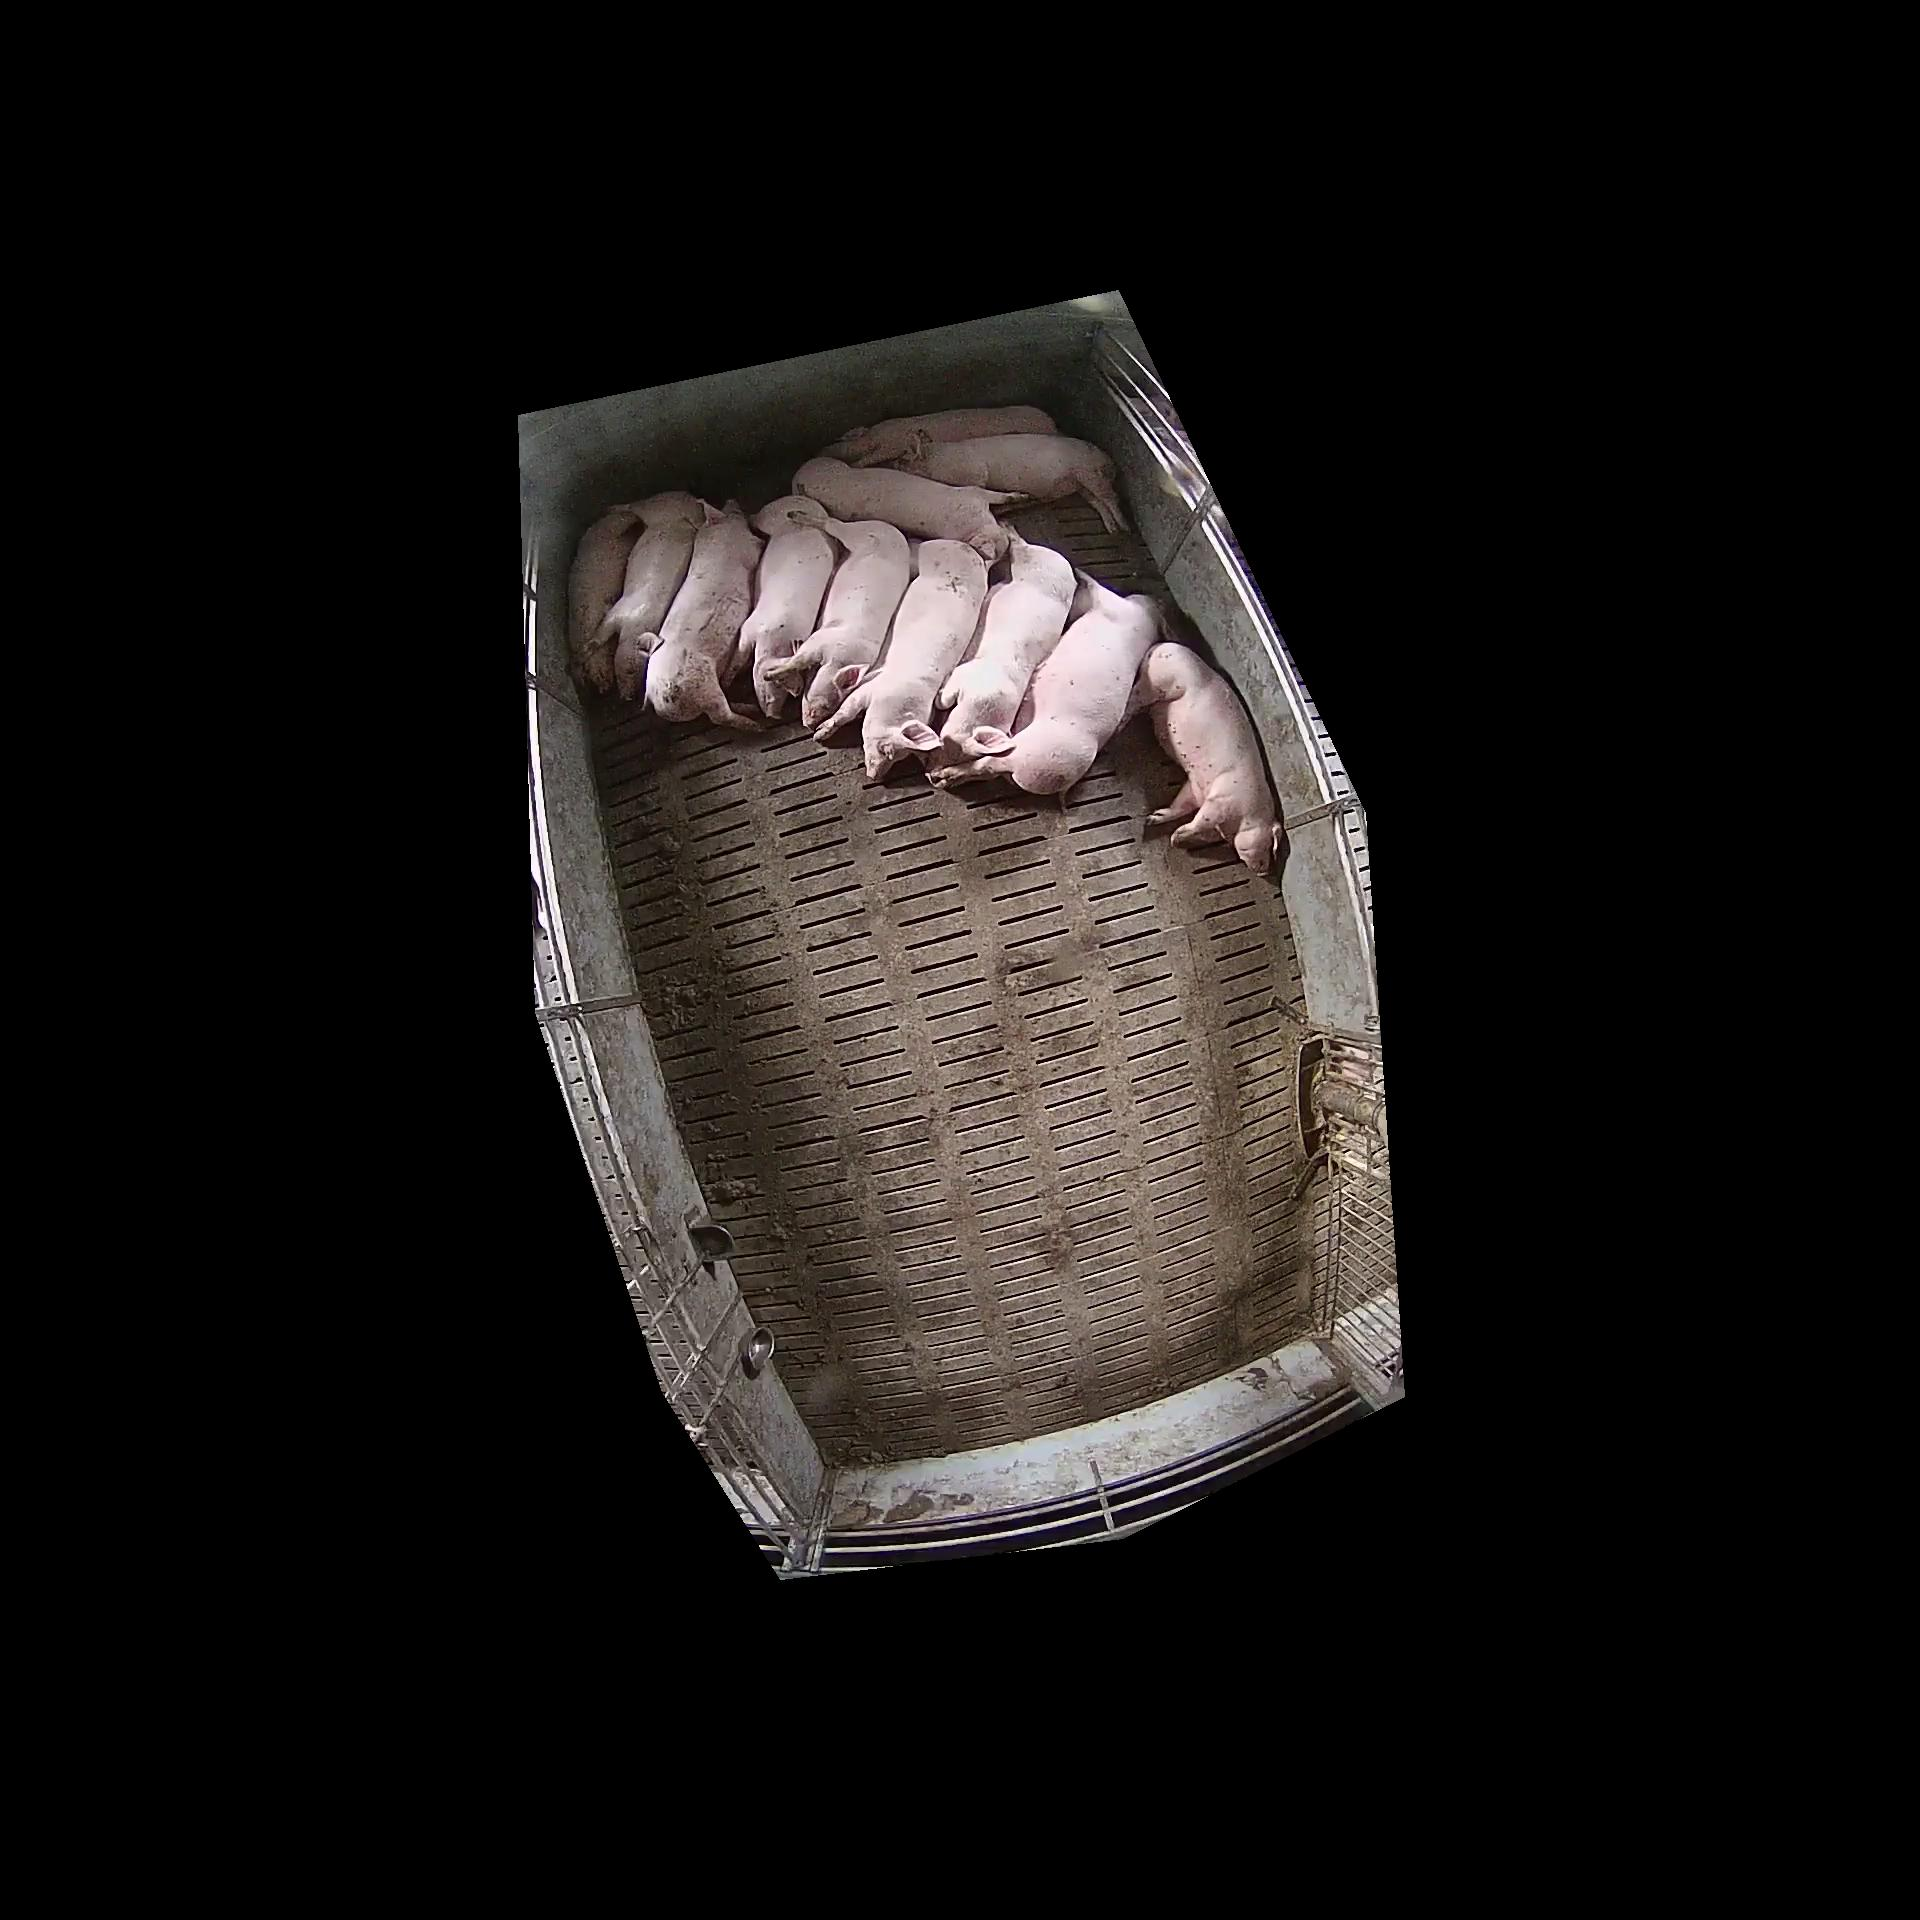pig: (928, 566, 1164, 796), (816, 540, 985, 779), (923, 517, 1071, 774), (1125, 642, 1282, 872), (768, 519, 913, 726), (726, 496, 833, 716), (909, 431, 1129, 536), (594, 492, 707, 698), (647, 512, 760, 709), (793, 455, 1016, 554), (568, 503, 638, 684), (840, 404, 1055, 461)
